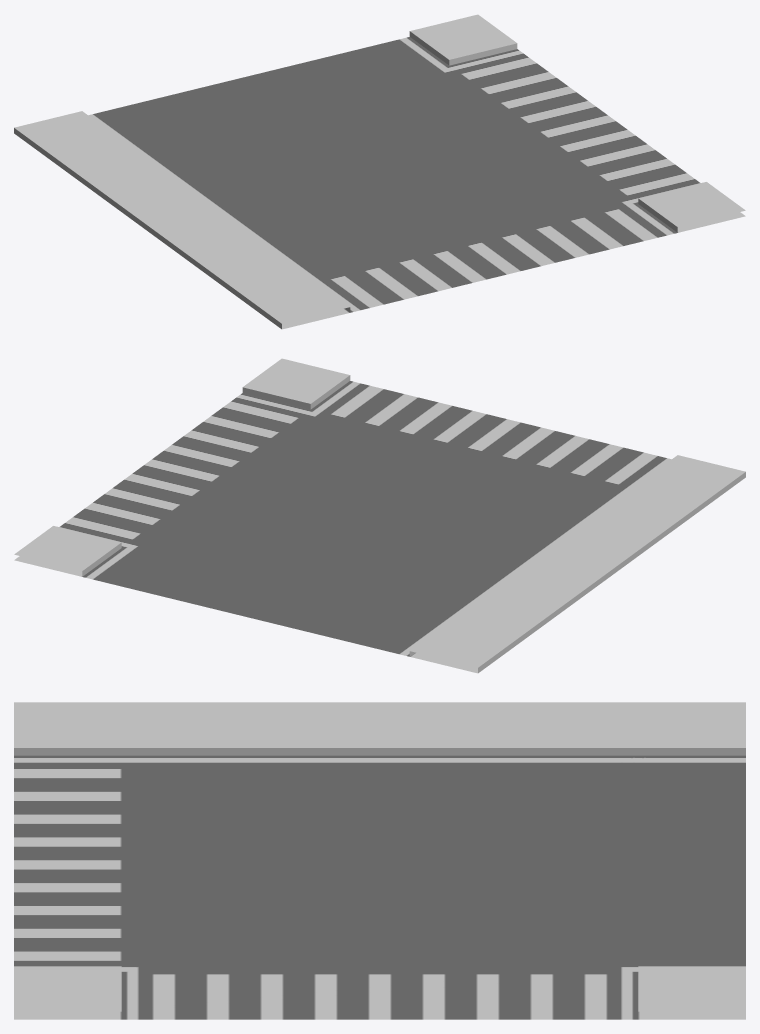
Rendered from HalfCorner01.fbx.
3 views of the same model, one above another, from view 1: azimuth 30°, elevation 25°; view 2: azimuth 150°, elevation 25°; view 3: azimuth 270°, elevation 25° (orthographic). The views are drawn at different scales.
Parts seen in each view (by area): view 1: HalfCorner01; view 2: HalfCorner01; view 3: HalfCorner01.
Boxes of the visible parts, <box> form: HalfCorner01: <box>14,14,745,329</box>; HalfCorner01: <box>14,358,745,673</box>; HalfCorner01: <box>14,702,745,1019</box>.
Size of the model in its own units: 1700 by 20 by 1700.
